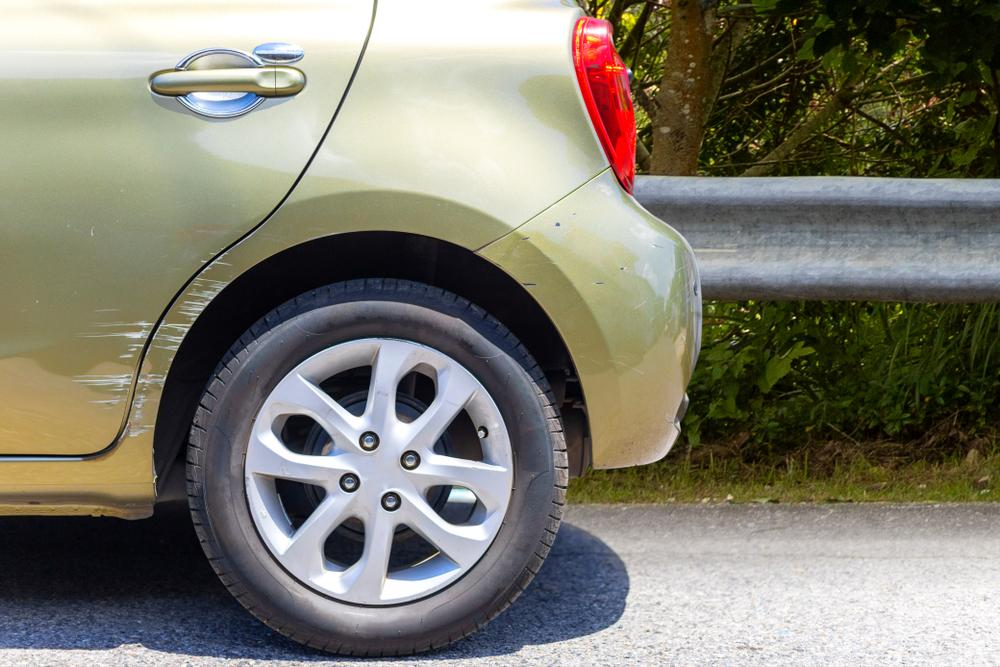scratch: (118, 256, 239, 439), (63, 299, 154, 418)
